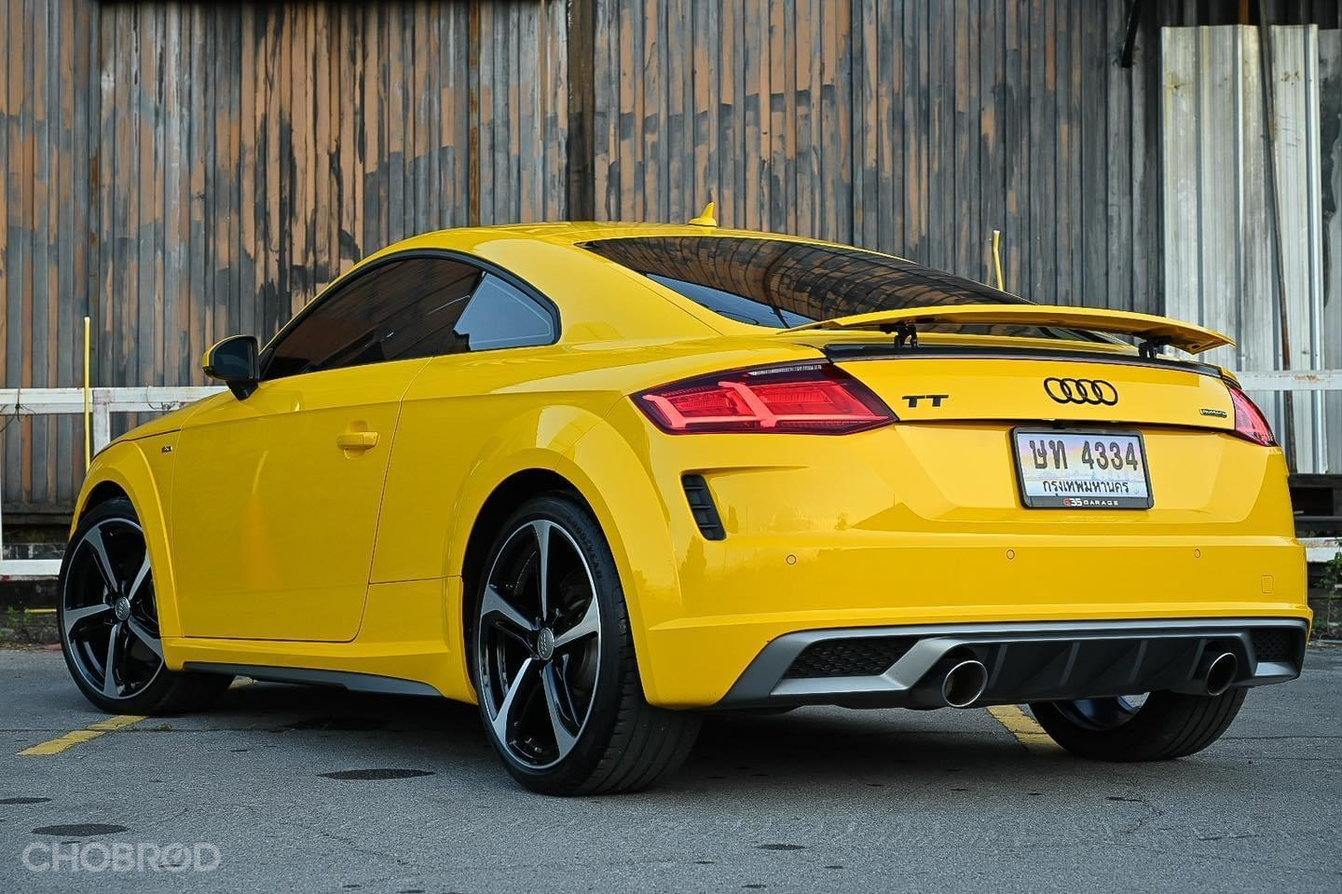license-plate: (1007, 427, 1156, 513)
